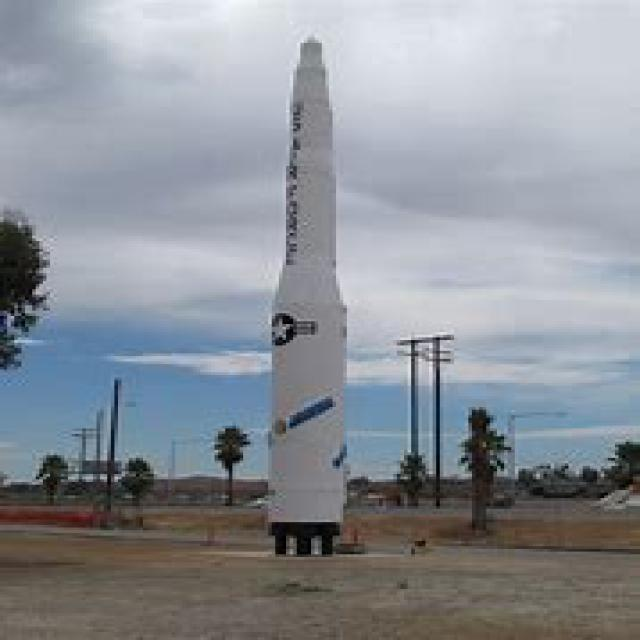missile: (269, 28, 355, 551)
